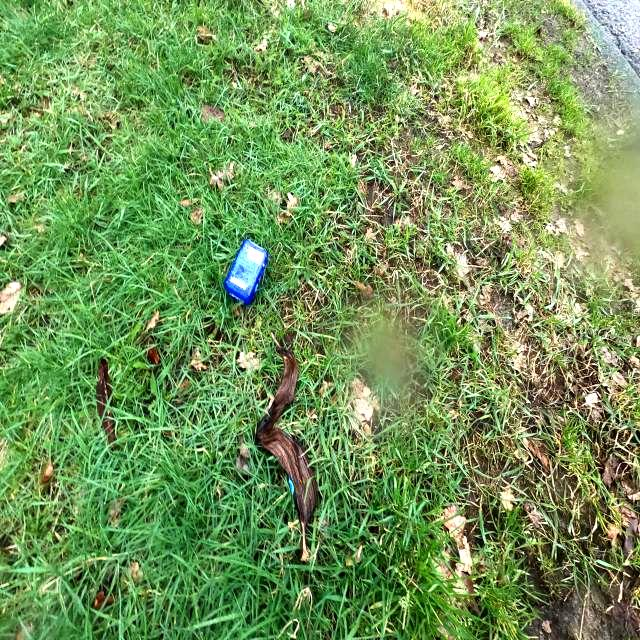Plastic: (222, 236, 270, 306)
